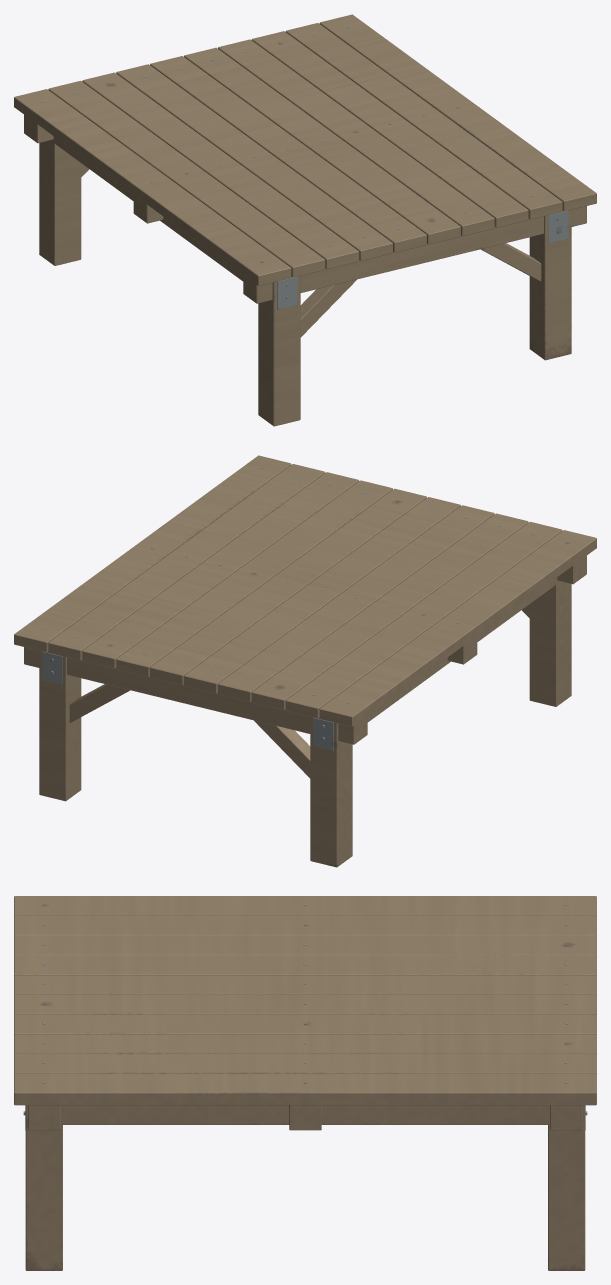
The model's file is lake_wood_pier_straight.glb.
3 views of the same model, one above another, from view 1: azimuth 30°, elevation 25°; view 2: azimuth 150°, elevation 25°; view 3: azimuth 270°, elevation 25° (orthographic). The views are drawn at different scales.
Visible parts, largest first — view 1: WoodPierStraight; view 2: WoodPierStraight; view 3: WoodPierStraight.
Part boxes in pixels (x1,y1,x2,y2): WoodPierStraight: [14, 14, 596, 426]; WoodPierStraight: [14, 455, 596, 867]; WoodPierStraight: [14, 896, 596, 1270].
Size of what is drawn, in the model's own units: 2 by 0.902 by 2.5.
1 material, 1 textured.
